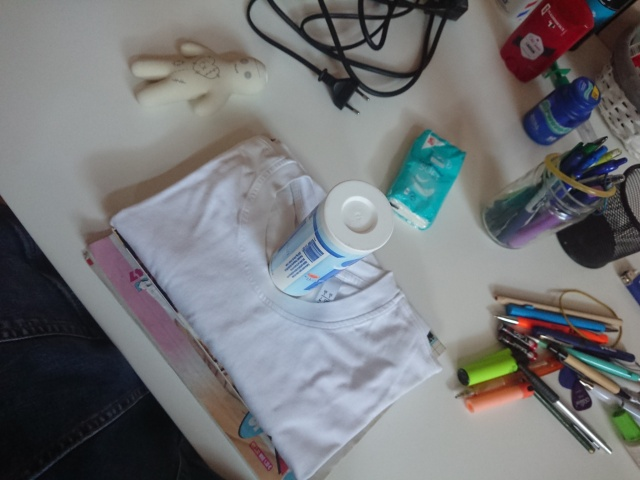Solana Pag Fine Sea Salt 250g: (266, 178, 396, 298)
